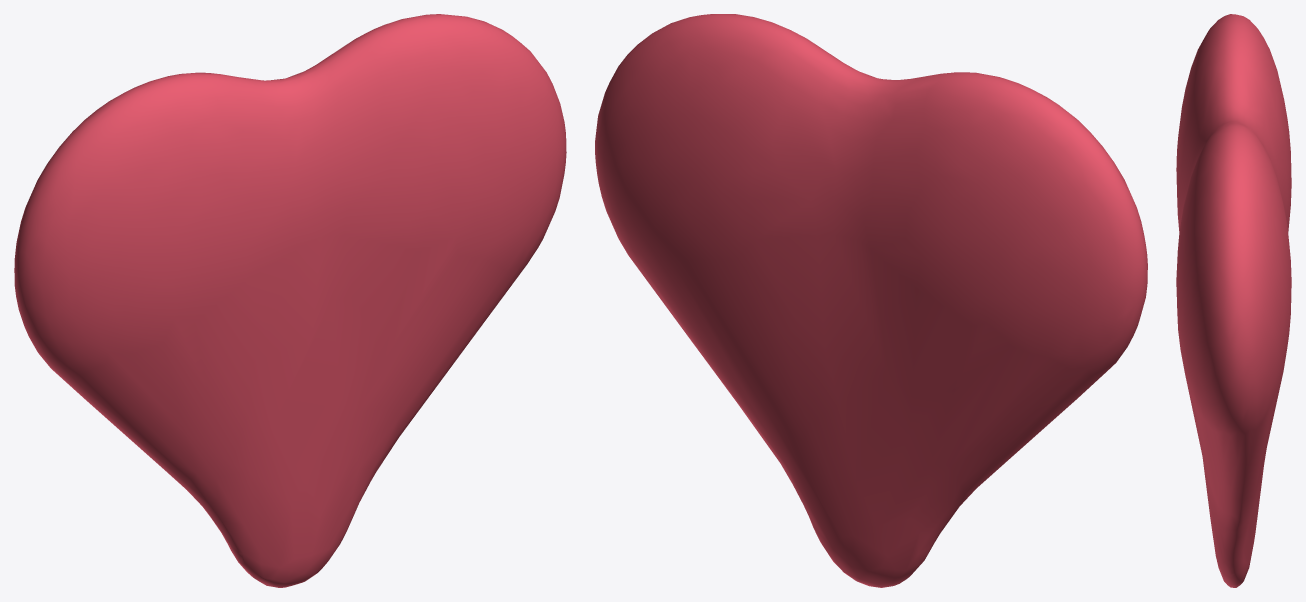
Rendered from deco_cojin_corazon.glb.
The picture shows the model from 3 angles, left to right: view 1: azimuth 30°, elevation 25°; view 2: azimuth 150°, elevation 25°; view 3: azimuth 270°, elevation 25°; orthographic projection. The views are drawn at different scales.
Visible parts, largest first — view 1: cojín corazón.001; view 2: cojín corazón.001; view 3: cojín corazón.001.
Part boxes in pixels (<box>): cojín corazón.001: <box>14,14,566,587</box>; cojín corazón.001: <box>595,14,1147,587</box>; cojín corazón.001: <box>1176,14,1291,587</box>.
Bounding box in the file's own units: 0.4617 × 0.4332 × 0.0907.
